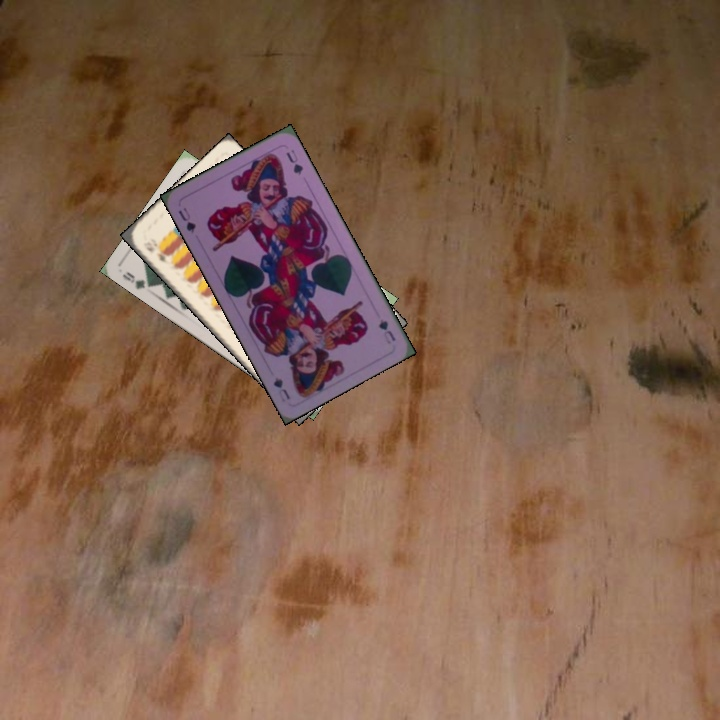E10: (142, 243, 174, 267)
G9: (118, 268, 157, 292)
GU: (174, 203, 198, 235), (375, 314, 398, 347)
